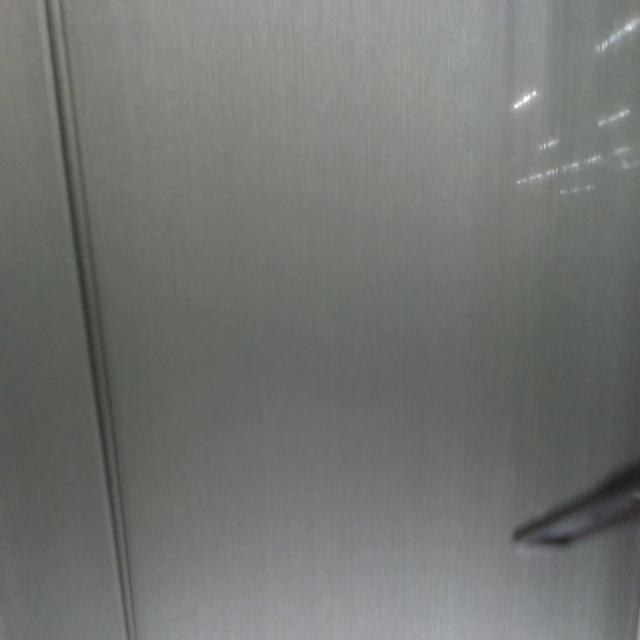crease: (39, 1, 139, 640)
